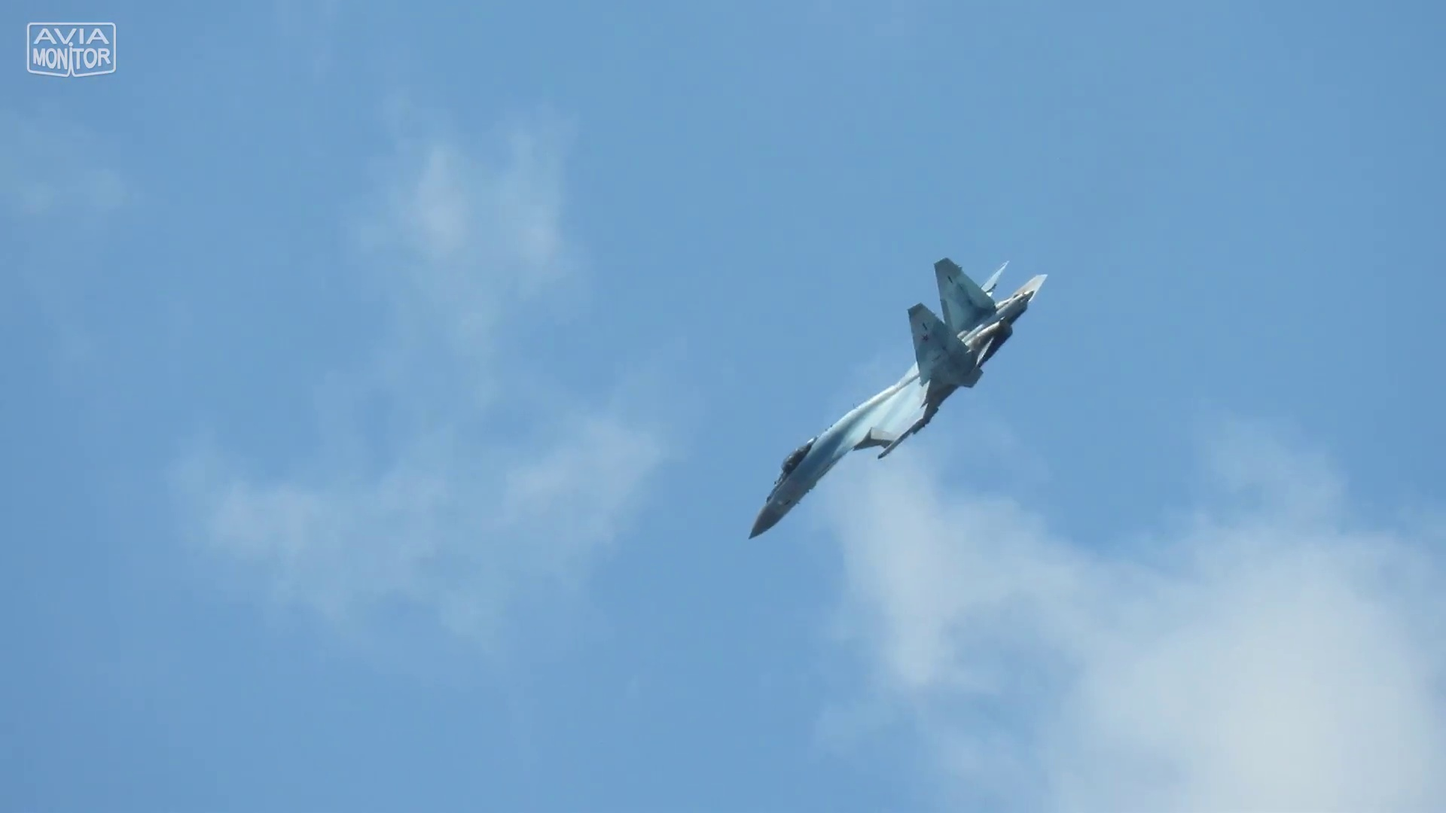Su35: (743, 244, 1057, 554)
